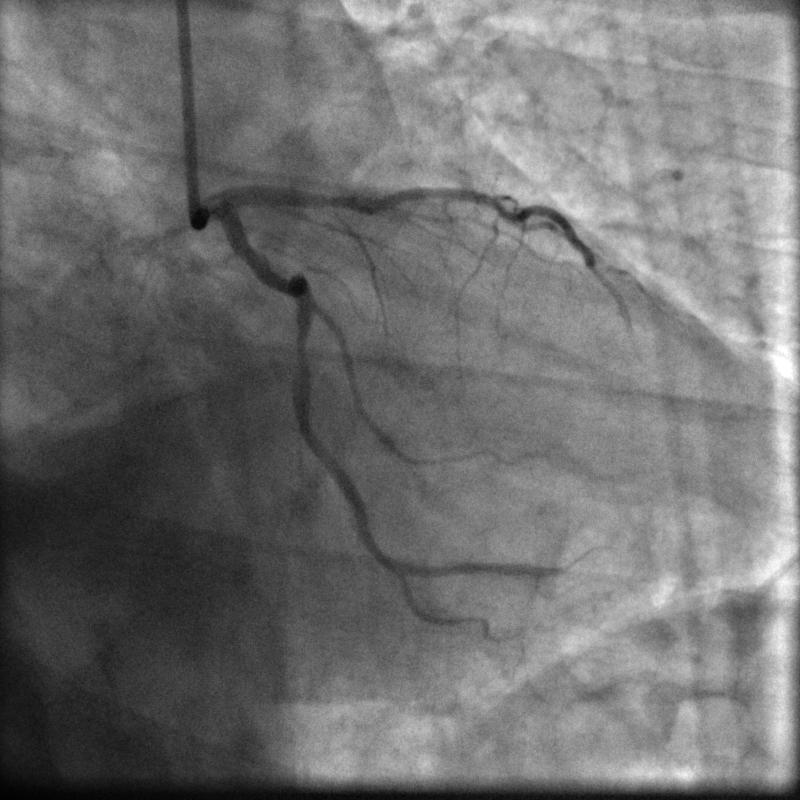Stenosis: (292, 333, 309, 364)
